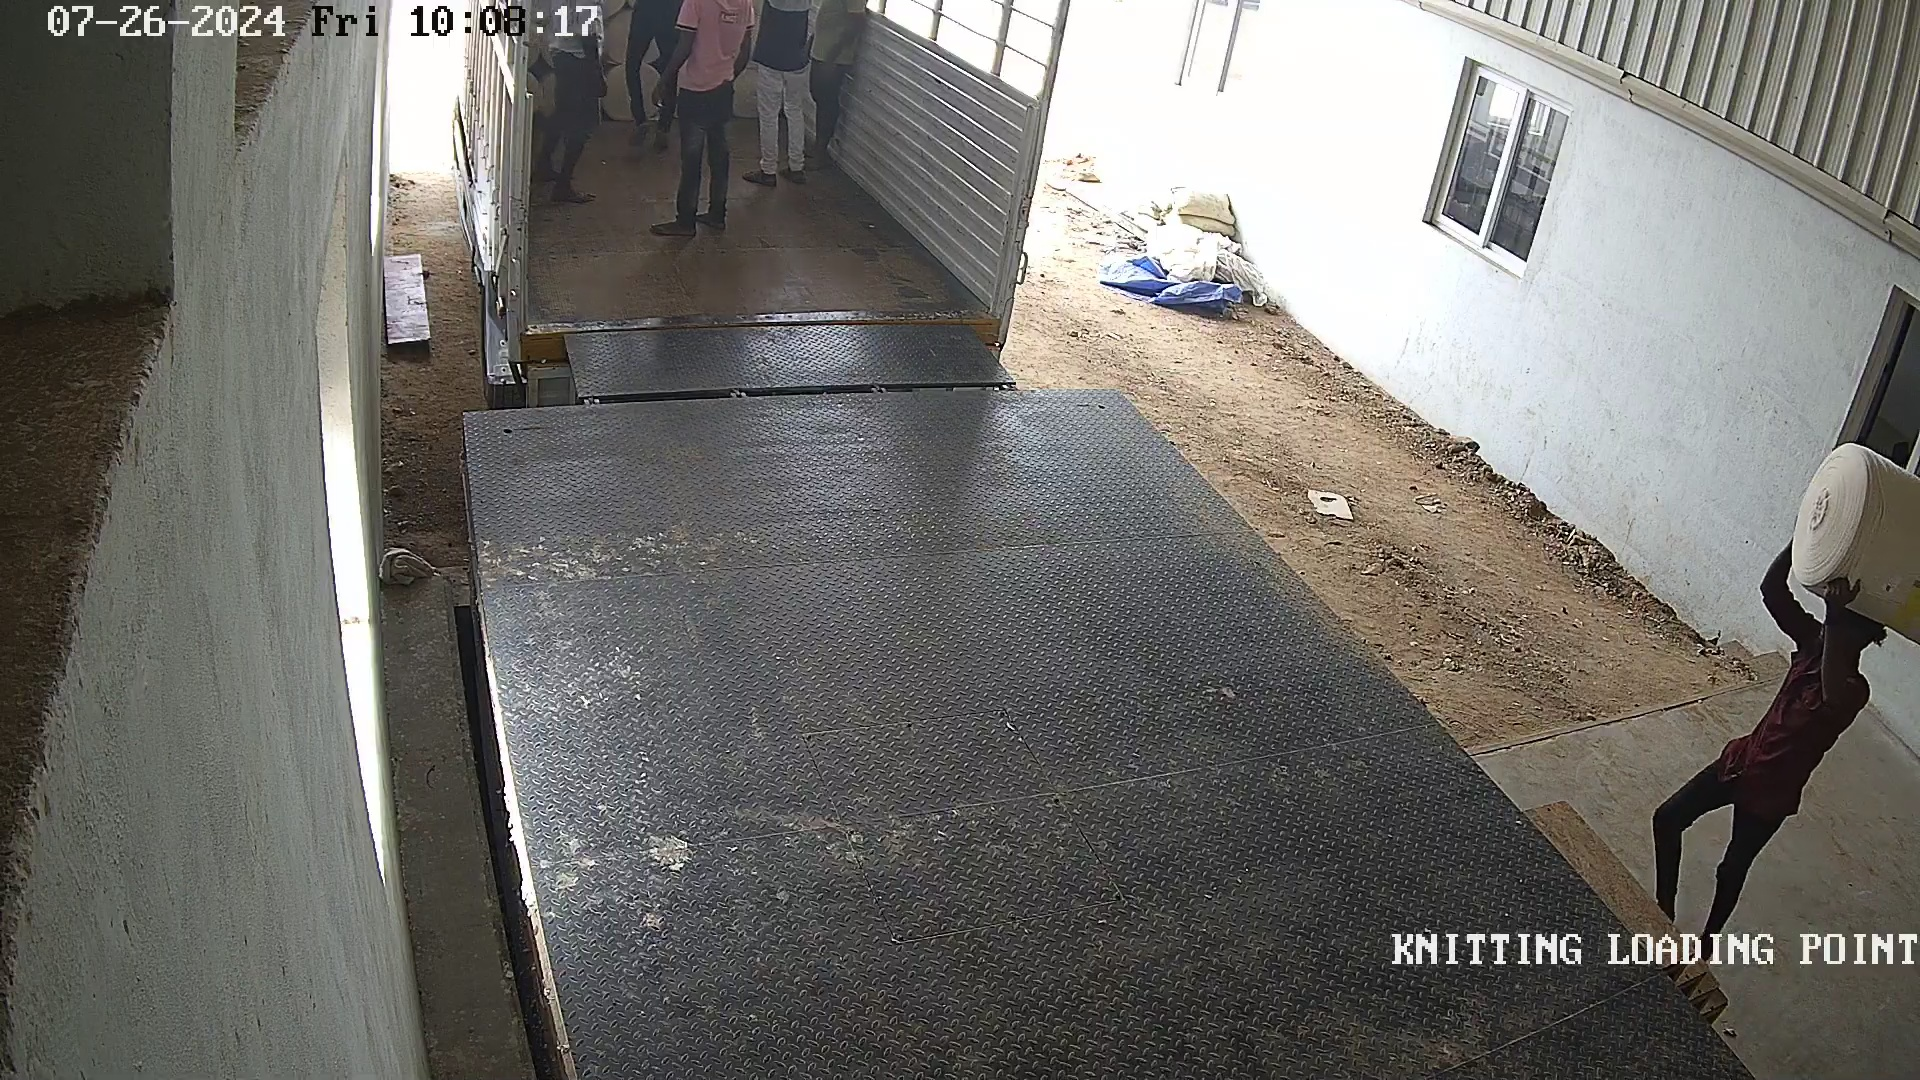bag: (1789, 436, 1920, 657)
